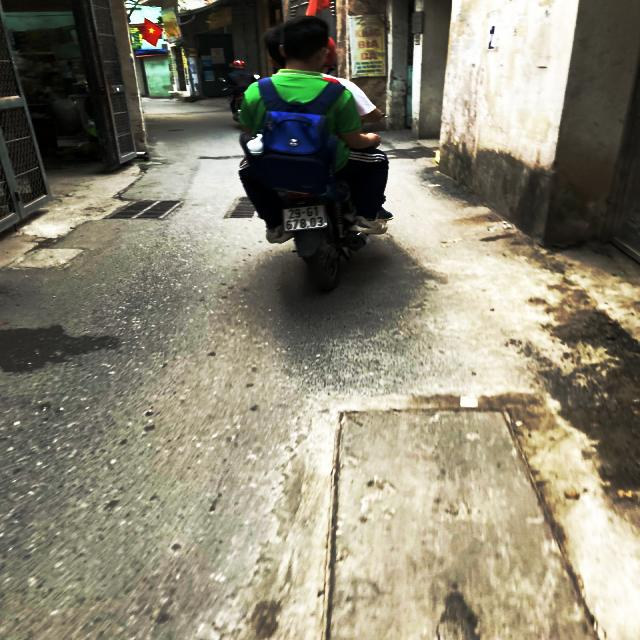license_plate: (283, 205, 328, 232)
